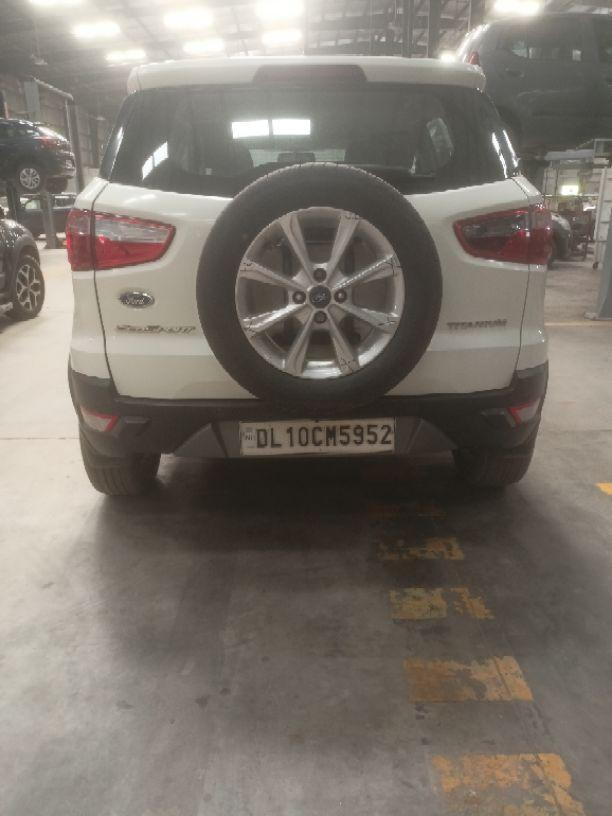license_plate: (236, 416, 396, 456)
